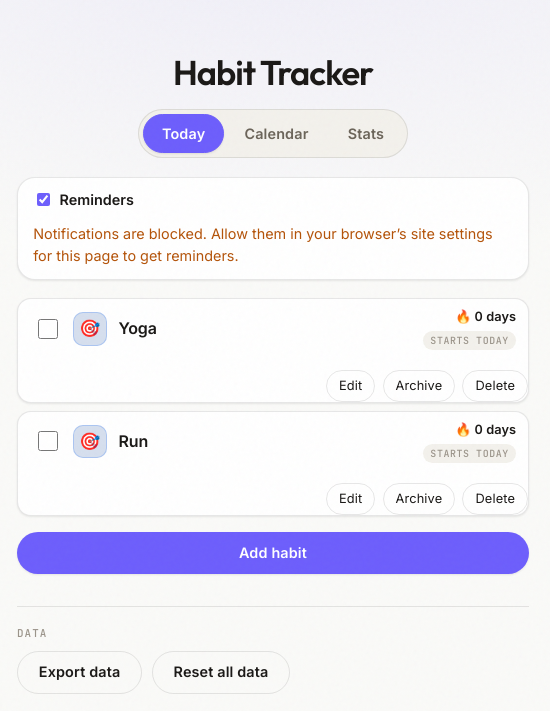
Scenario: App › deletes a habit after confirmation
Note: Cancel first: the confirm flow is dismissable.
Click the button with aria-label "Delete Yoga" at (495, 386), box [462,370,528,402]
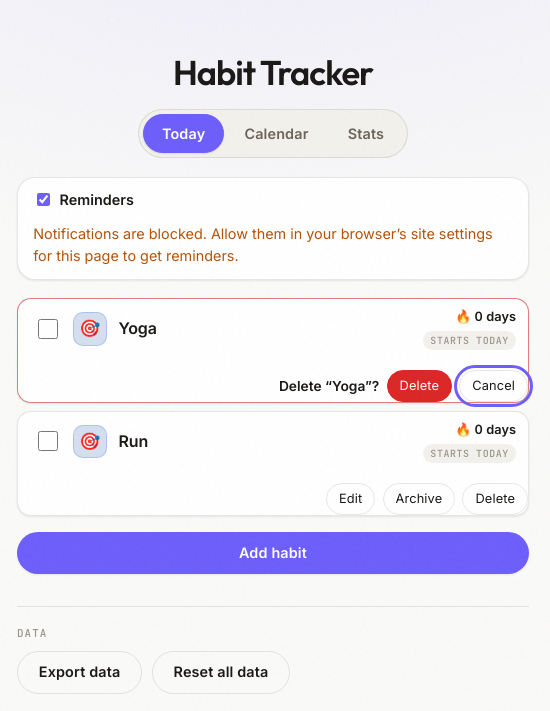
Click the button "Cancel" at (494, 386), box [459,370,528,402]
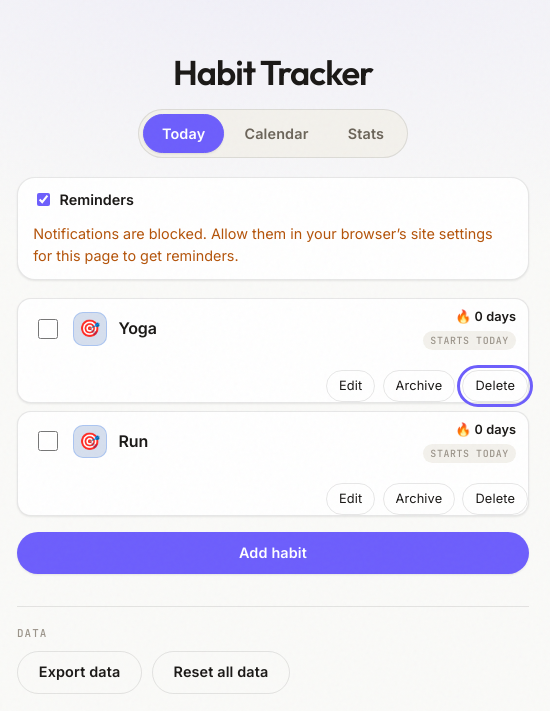
Expected: the text "Yoga" is shown, [119,316,157,341]
Note: Now really delete.
Click the button with aria-label "Delete Yoga" at (495, 386), box [462,370,528,402]
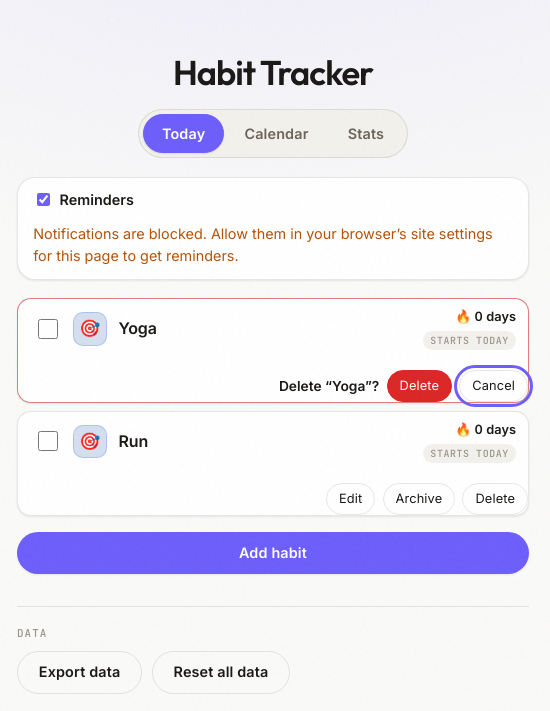
Click the button with aria-label "Confirm delete Yoga" at (419, 386), box [386,370,452,402]
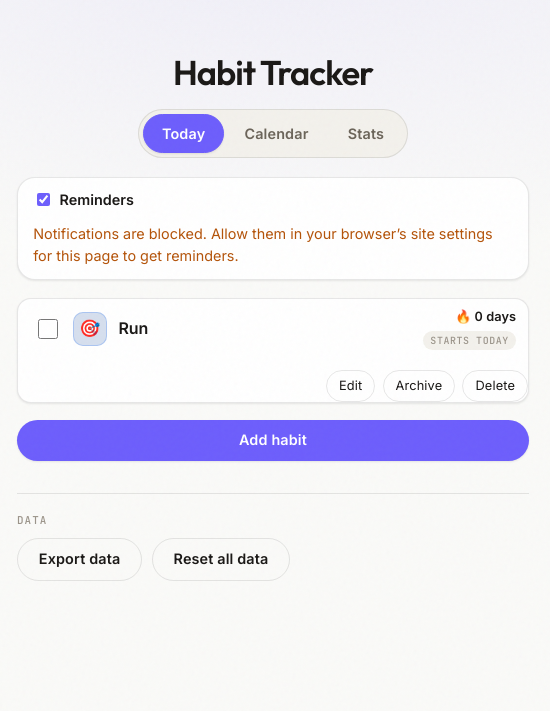
Expected: the text "Run" is shown, [119,316,148,341]
Expected: the text "Yoga" is gone
